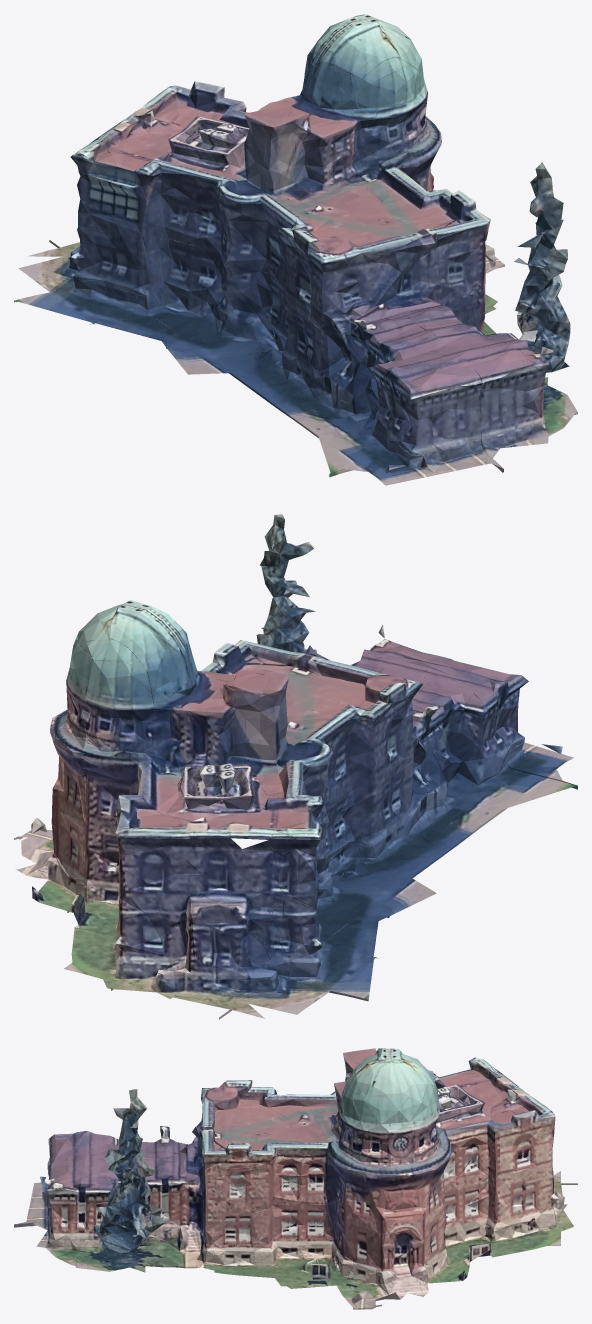
Rendered from observatory.glb.
The picture shows the model from 3 angles, top to bottom: view 1: azimuth 30°, elevation 25°; view 2: azimuth 150°, elevation 25°; view 3: azimuth 270°, elevation 25°; orthographic projection. The views are drawn at different scales.
Parts seen in each view (by area): view 1: Observatory_Guide; view 2: Observatory_Guide; view 3: Observatory_Guide.
Part boxes in pixels (x1=…): Observatory_Guide: x1=14, y1=14, x2=577, y2=485; Observatory_Guide: x1=14, y1=514, x2=577, y2=1019; Observatory_Guide: x1=14, y1=1048, x2=577, y2=1309.
Size of the model in its own units: 2.64 by 1.63 by 3.94.
Materials: 50 (50 with a texture image).
